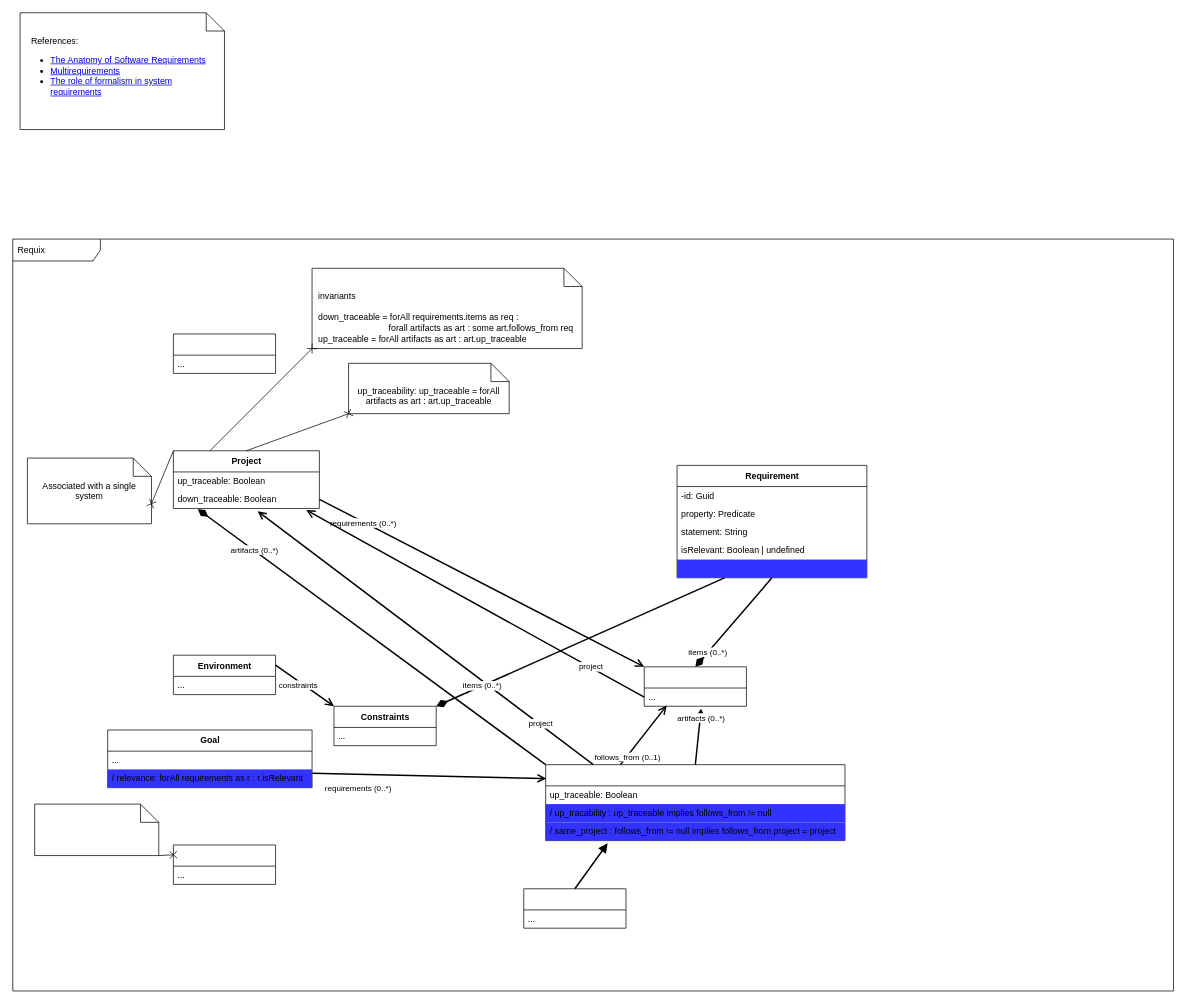
Some shapes in this 1186 by 1004 pixel diagram are drawn without their labels. The shapes that lost their labels are listed below. From the top down, each one's box as (x1, y1, x2, y2) in pixels, then its label:
(173, 333, 276, 373): Stakeholder
(677, 559, 867, 577): / wellFormed : statement translatesTo property
(643, 666, 746, 706): Requirements
(545, 764, 845, 841): Artifact
(34, 803, 159, 856): A set of related artifacts
(173, 844, 276, 884): System
(523, 888, 626, 928): Computer Program
